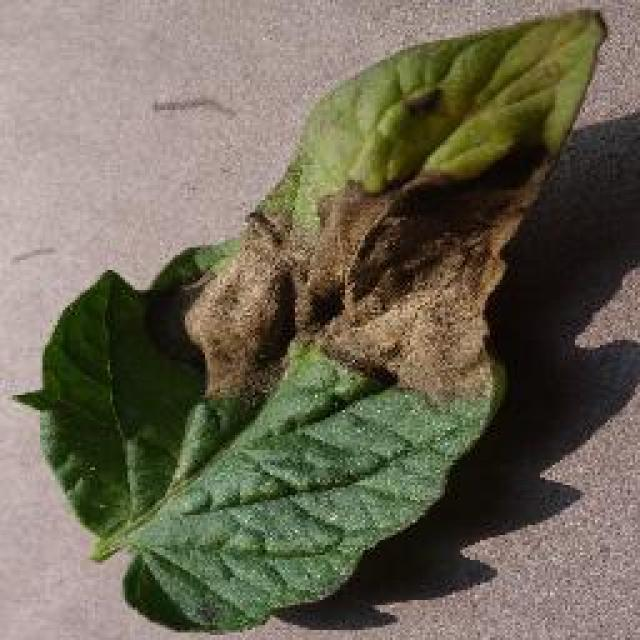Tomato Late Blight: (65, 216, 475, 382)
